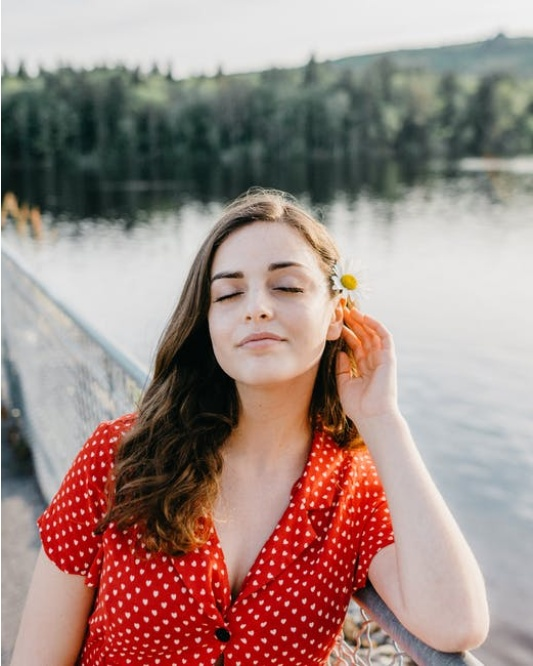face: (206, 222, 325, 383)
